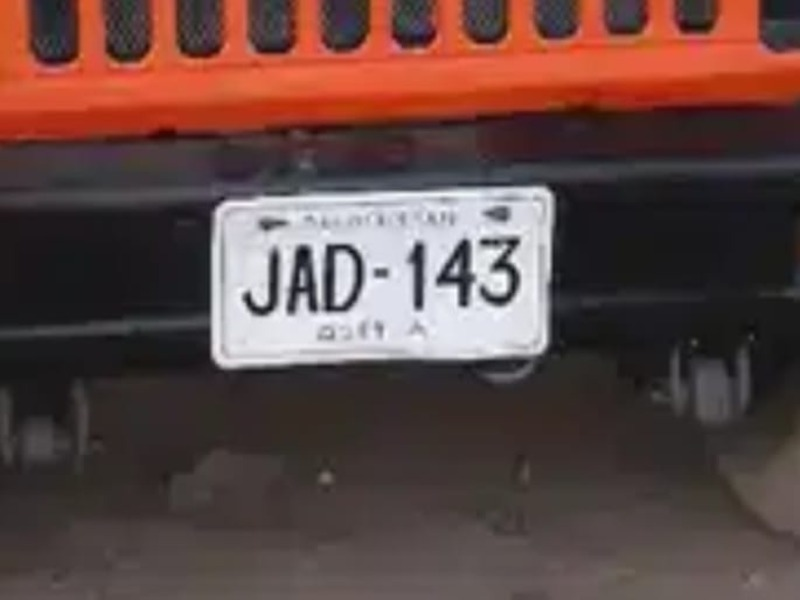License Plate: (206, 186, 554, 371)
